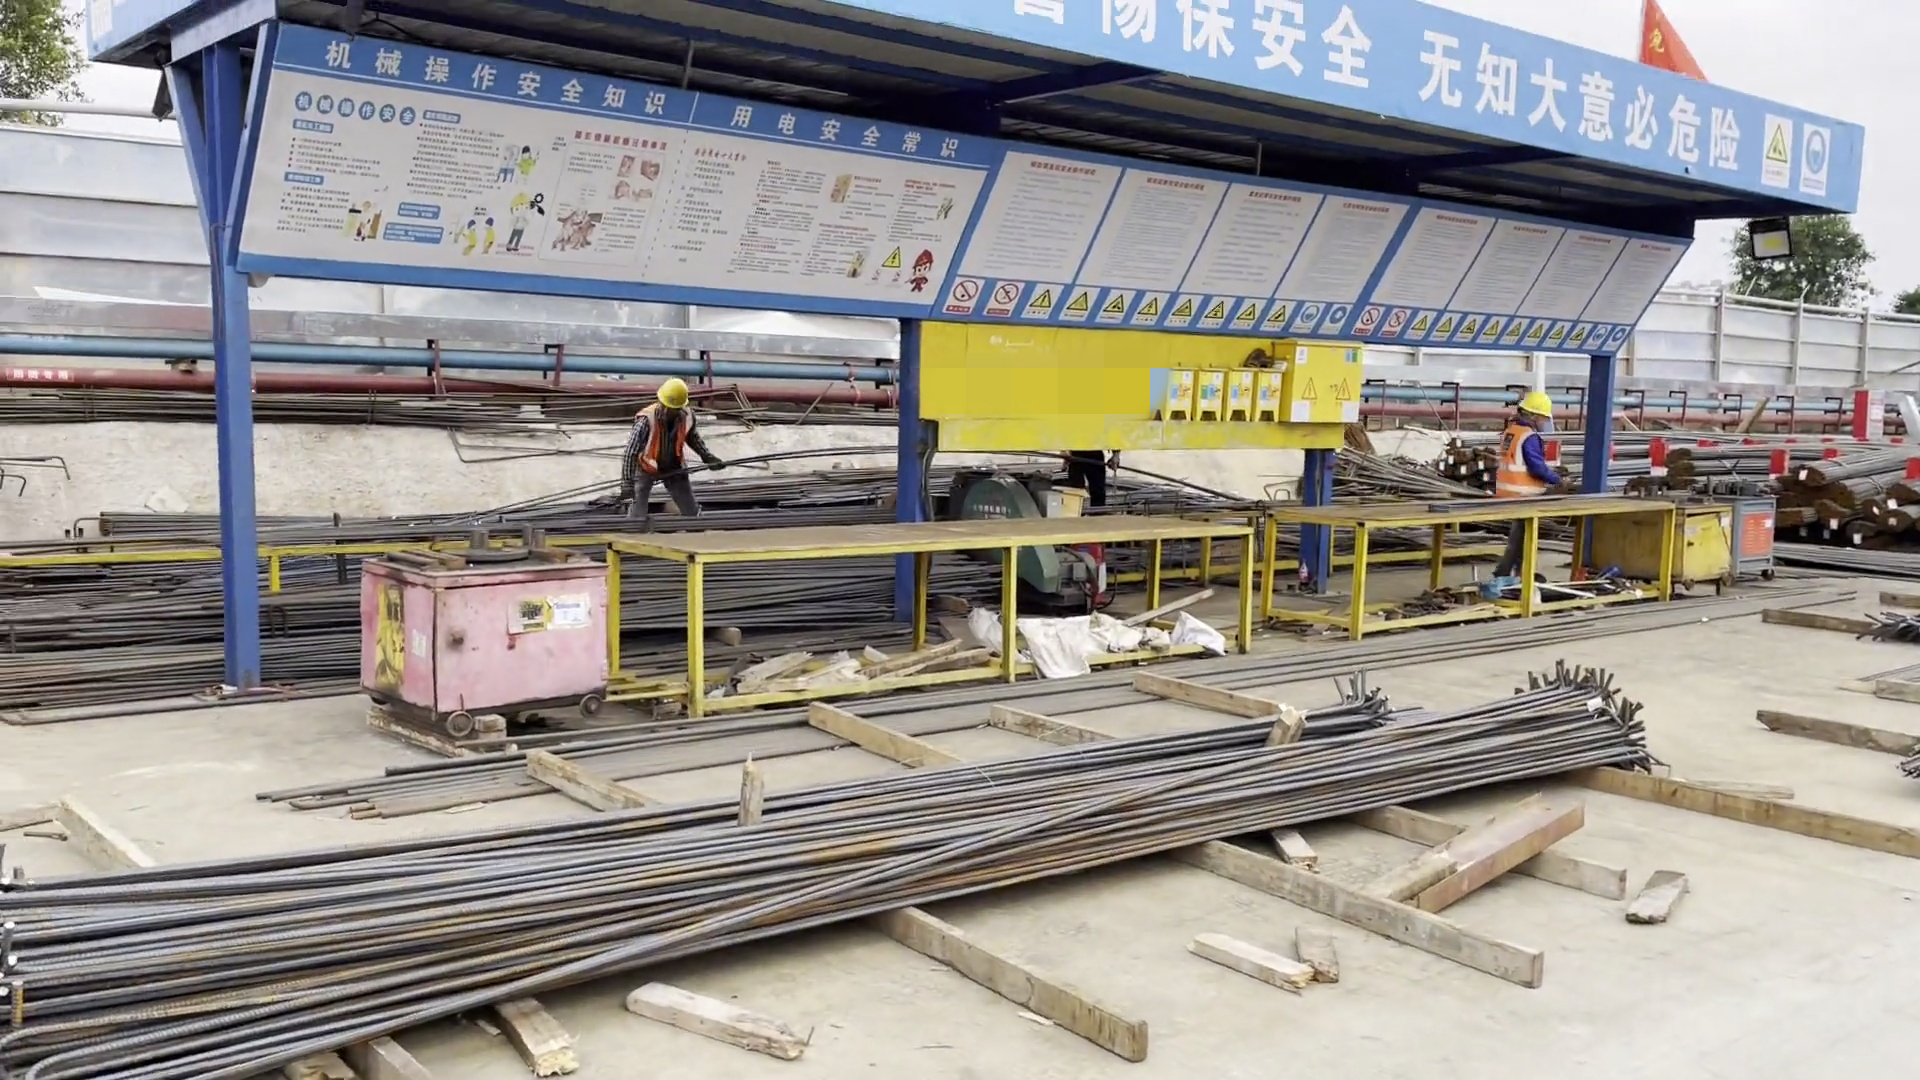ebox: (1271, 326, 1366, 432)
helmet: (658, 376, 692, 406), (1519, 389, 1555, 416)
person: (621, 374, 719, 518), (1496, 387, 1560, 500)
rebar: (1, 653, 1688, 1074)
slogan: (973, 1, 1733, 179)
vest: (1496, 427, 1551, 499), (633, 411, 691, 478)
